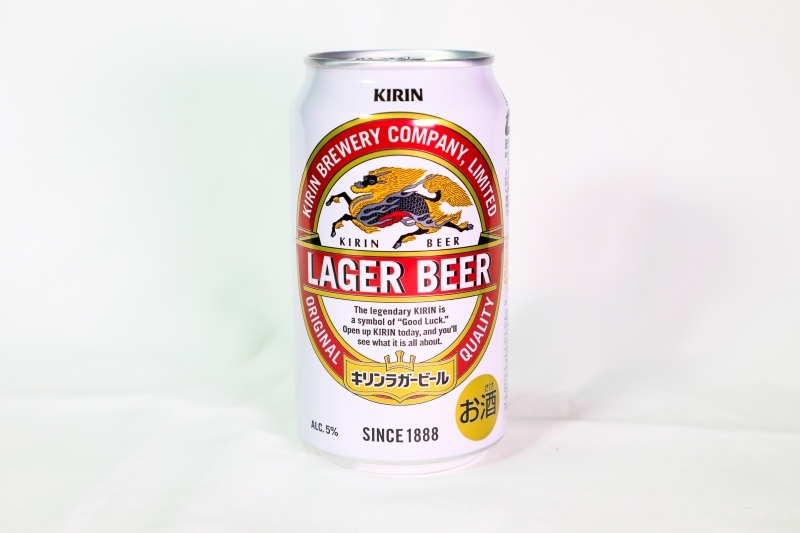beer can: (288, 47, 508, 473)
